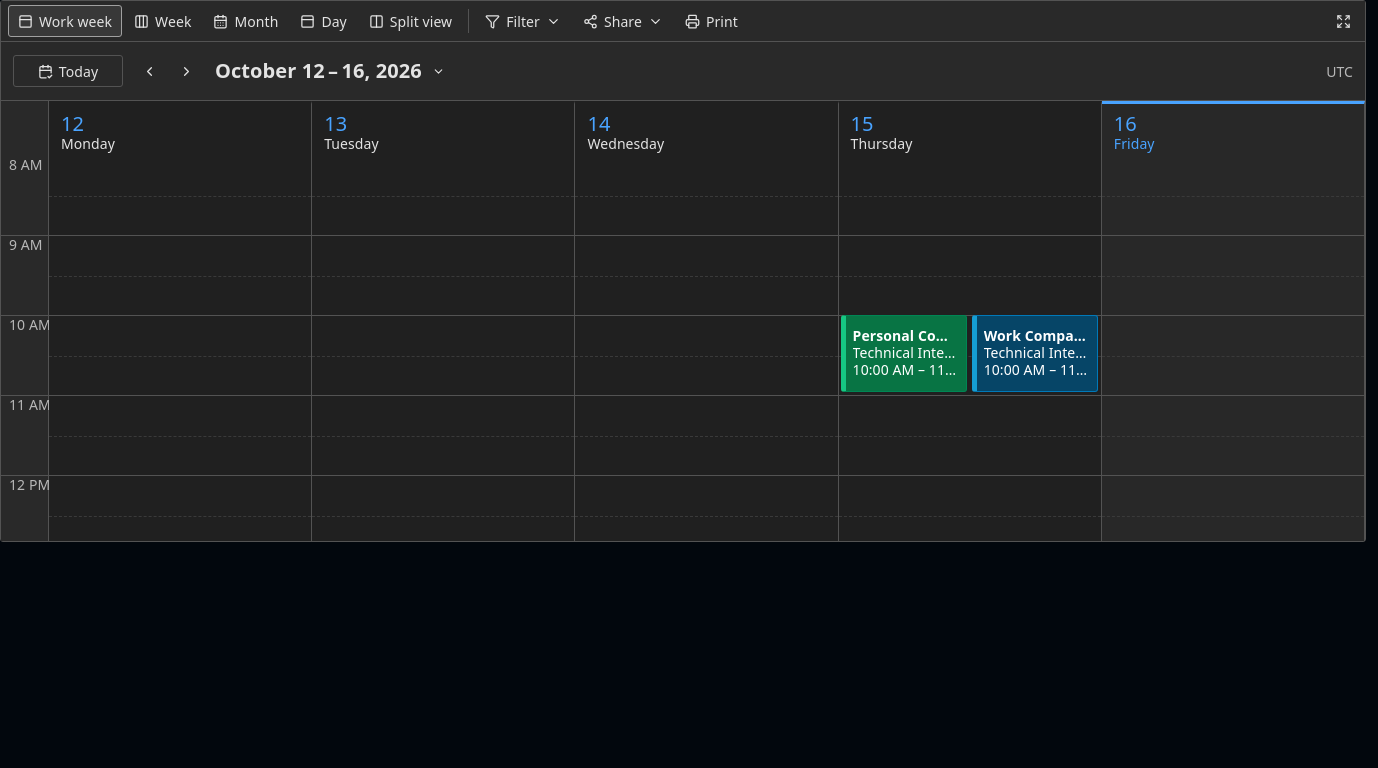
Test: opens real filters and partitions split calendars by source account
The image size is (1378, 768).
(page scrolled)
Expected: the field labelled "Account filter" is not shown
Click the button "Filter": x=523, y=21 [475,5,571,37]
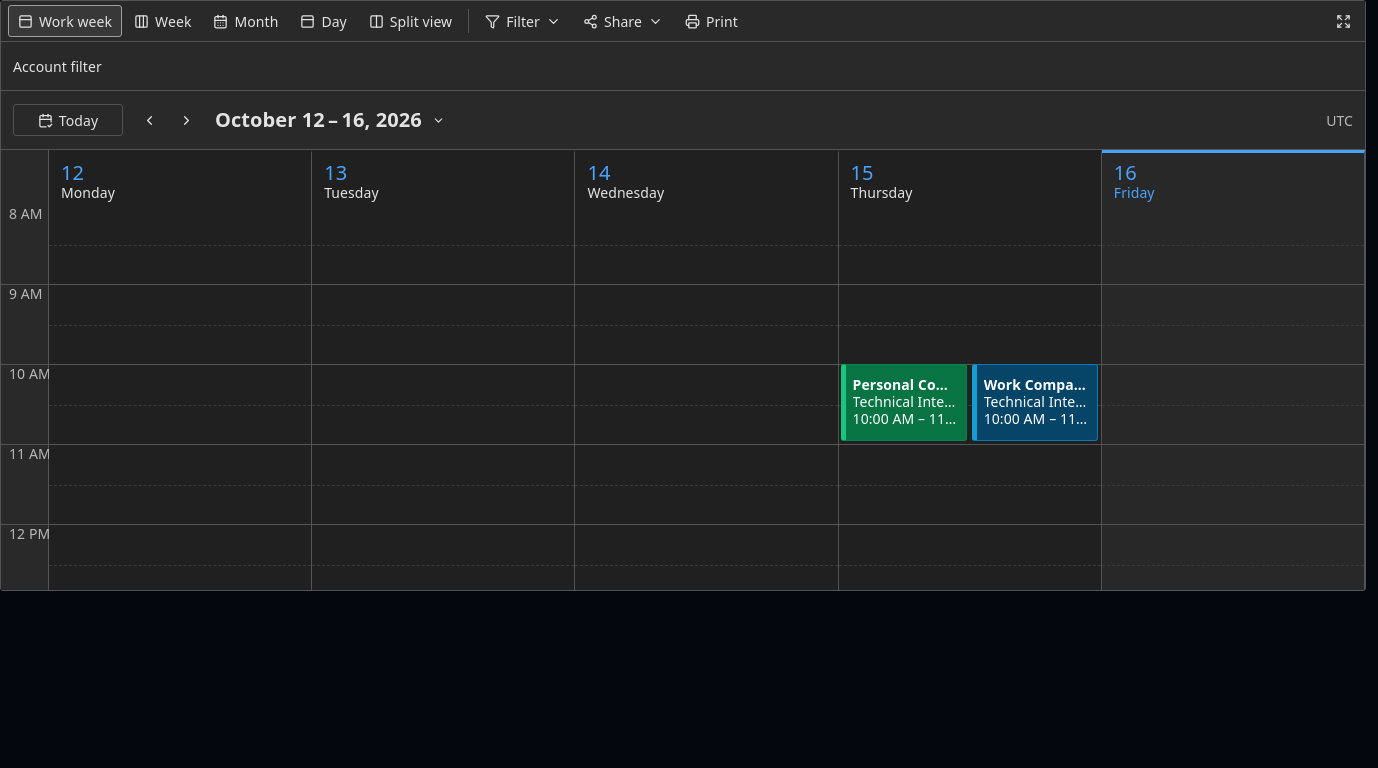
Expected: the field labelled "Account filter" is shown, [102,54,333,78]
Click the button "Split view": x=410, y=21 [359,5,462,37]
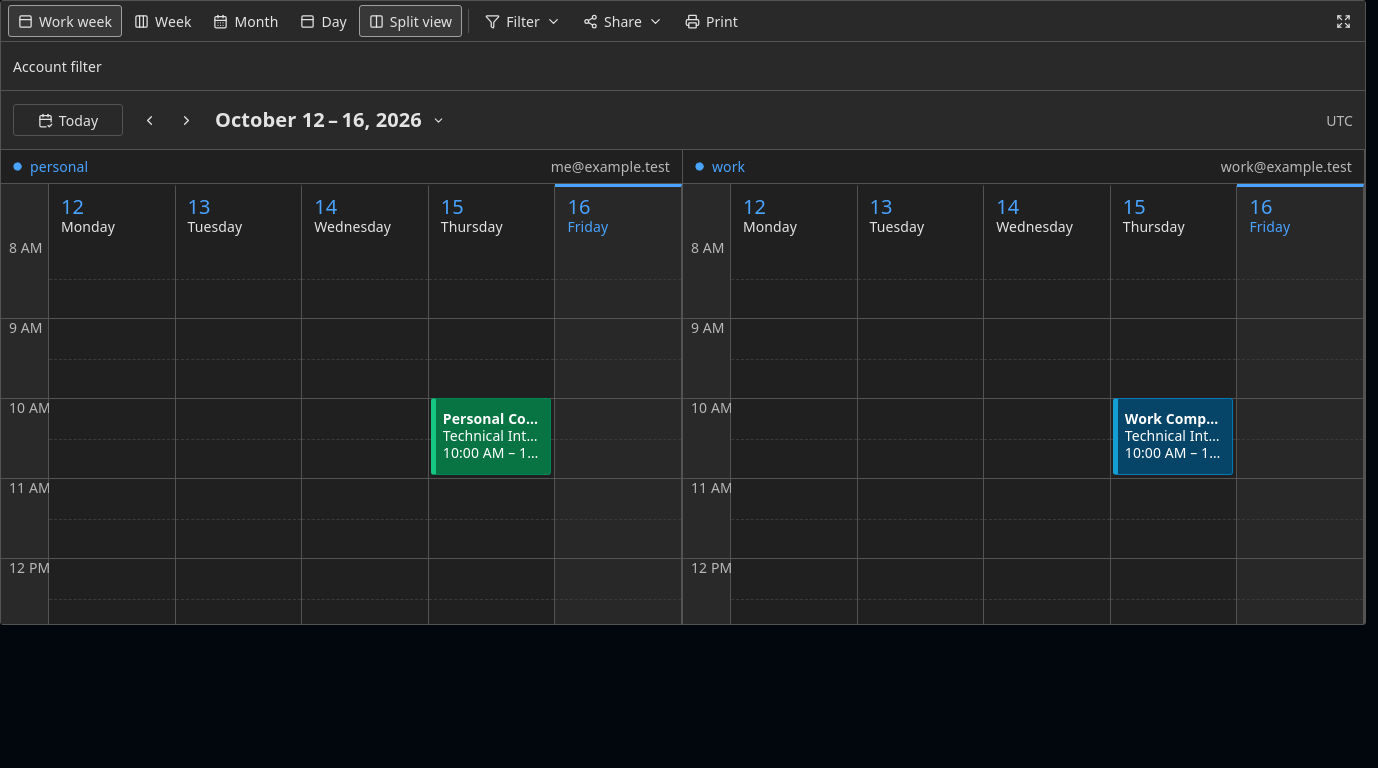
Expected: the button with class "outlook-time-event" shows "Personal Company", [431,398,551,475]
Expected: the number of elements with class "outlook-account-calendar" is 2, [1,150,683,624]; [683,150,1365,624]
